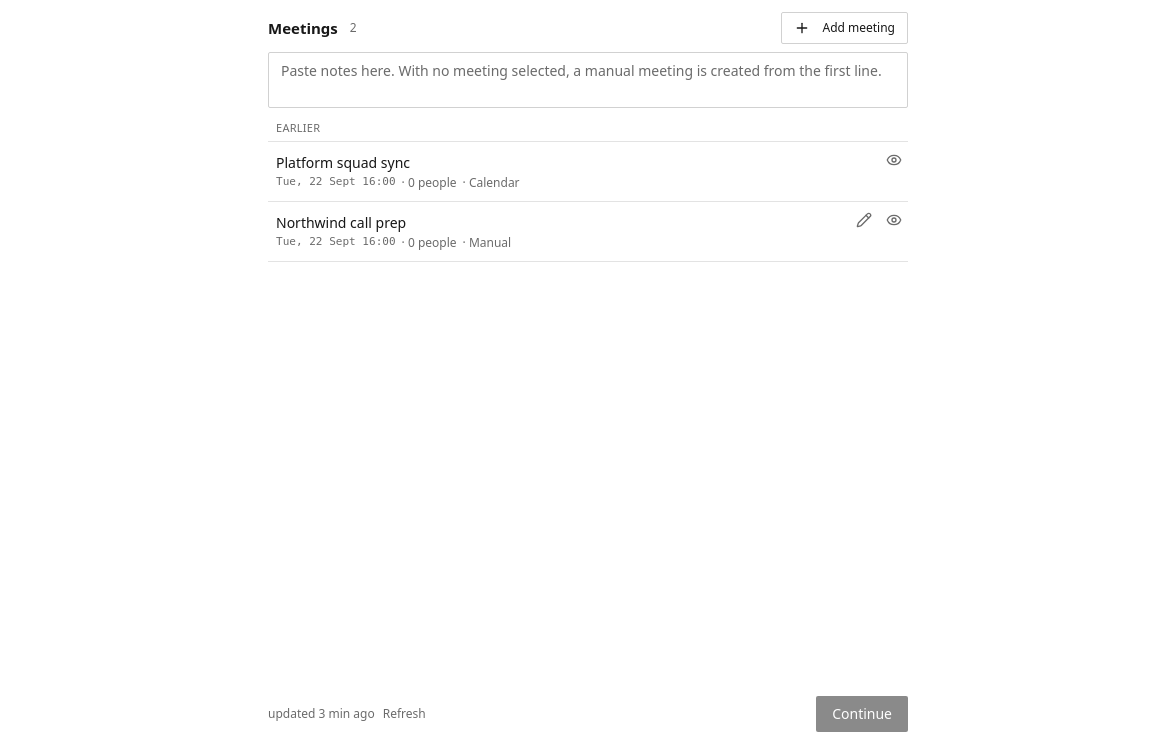
Test case: MeetingStep › says when nothing has been extracted or transferred yet
Click the button named "Show meeting details" in the row of "Northwind call prep". click: (894, 220)
box: 880,206 -> 908,234
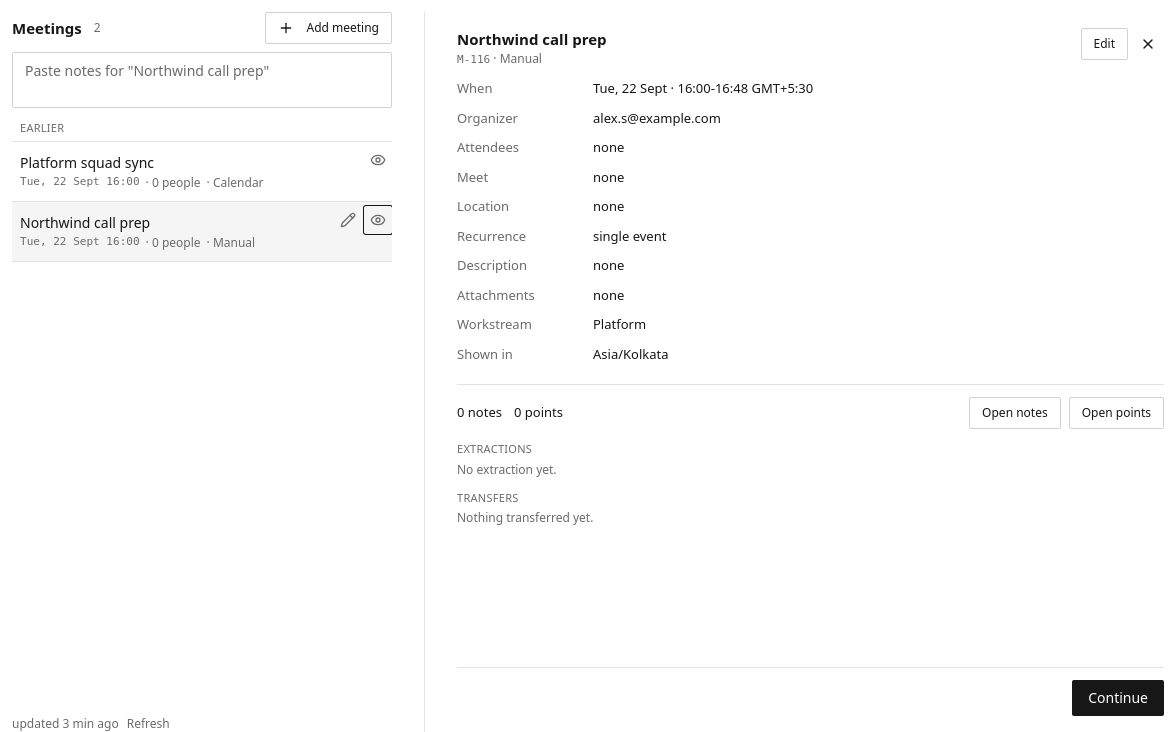
Expected: the element with test id "meeting-history" shows "No extraction yet.", 457,461 -> 557,478
Expected: the element with test id "meeting-history" shows "Nothing transferred yet.", 457,509 -> 593,526
